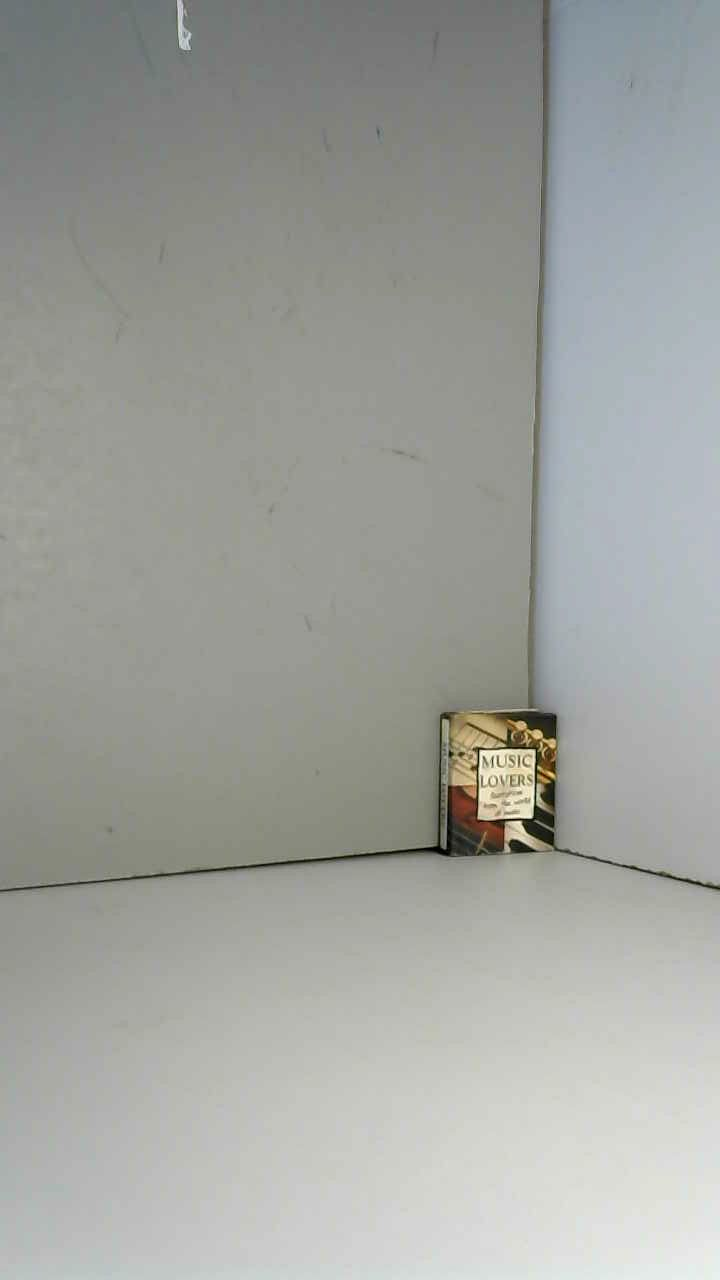book: (411, 679, 592, 888)
